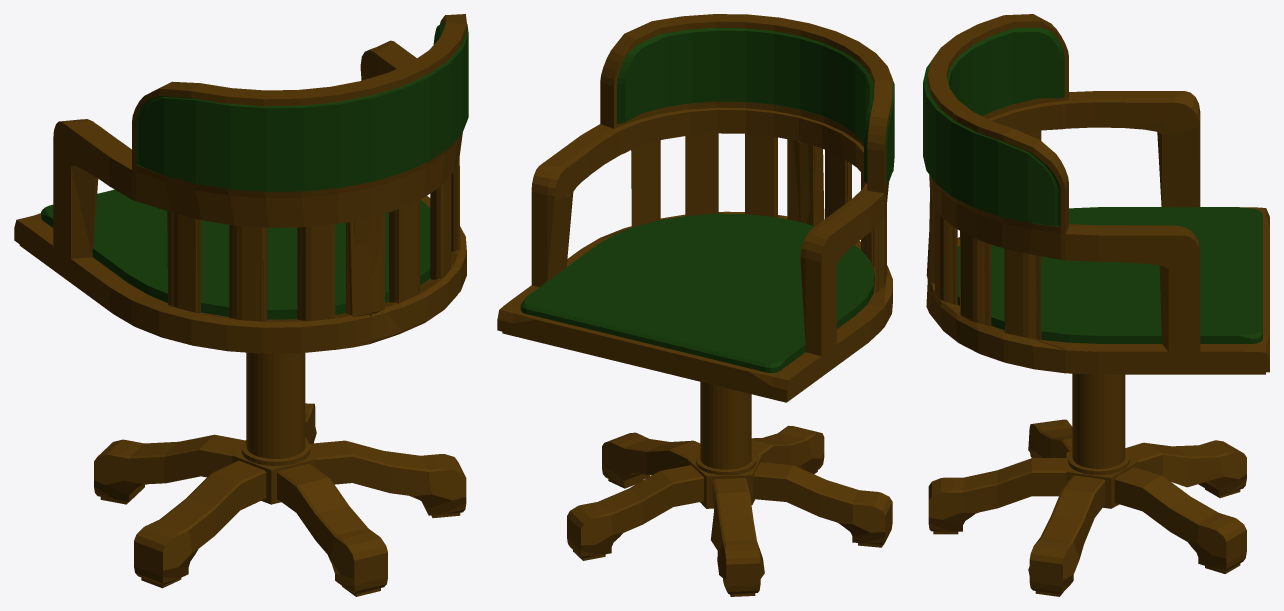
The model's file is Chair.fbx.
3 renders of one model, left to right at view 1: azimuth 30°, elevation 25°; view 2: azimuth 150°, elevation 25°; view 3: azimuth 270°, elevation 25°, orthographic. The views are drawn at different scales.
Parts seen in each view (by area): view 1: Chair, Legs, Cushion, Stand; view 2: Chair, Cushion, Legs, Stand; view 3: Chair, Legs, Cushion, Stand.
Boxes of the visible parts, left/top/right/bottom form: Chair: left=14, top=14, right=468, bottom=353; Legs: left=94, top=403, right=466, bottom=596; Cushion: left=41, top=189, right=430, bottom=319; Stand: left=241, top=352, right=310, bottom=465; Chair: left=497, top=14, right=894, bottom=402; Cushion: left=520, top=213, right=874, bottom=373; Legs: left=567, top=425, right=892, bottom=596; Stand: left=696, top=382, right=755, bottom=475; Chair: left=923, top=14, right=1269, bottom=374; Legs: left=928, top=419, right=1246, bottom=596; Cushion: left=957, top=207, right=1262, bottom=343; Stand: left=1068, top=373, right=1129, bottom=474.
Bounding box in the file's own units: 200 × 293 × 203.
